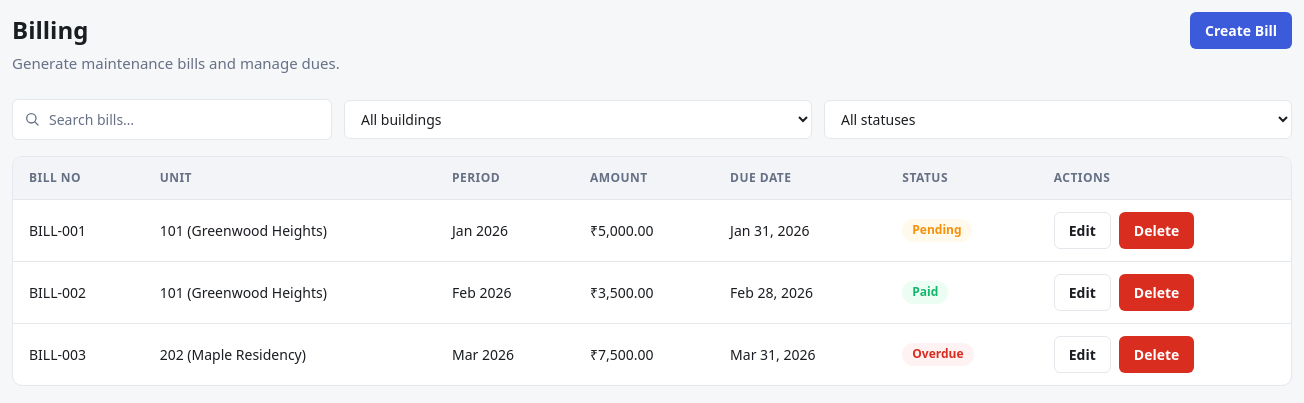
Test: BillingPage CRUD functionality › shows a no-search-results state
The image size is (1304, 403).
Expected: the text "BILL-001" is shown, [13,199,144,261]
Type "unknown" into the search field.
click(172, 119); type("unknown")  # box [12,98,332,140]
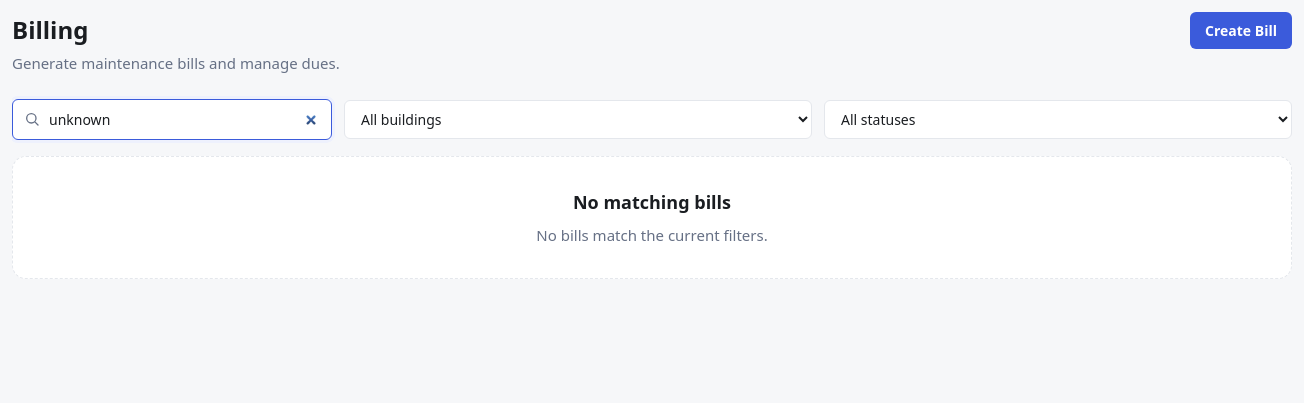
Expected: the heading "No matching bills" is shown, [573,188,731,216]
